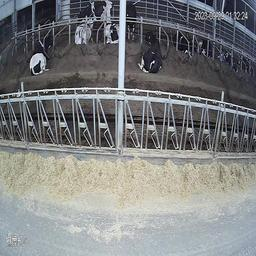cow: (76, 0, 113, 31), (27, 34, 54, 75), (140, 27, 163, 74), (173, 25, 193, 55), (219, 47, 239, 75), (125, 0, 137, 44), (73, 18, 94, 43), (196, 32, 214, 59), (101, 21, 119, 45)
